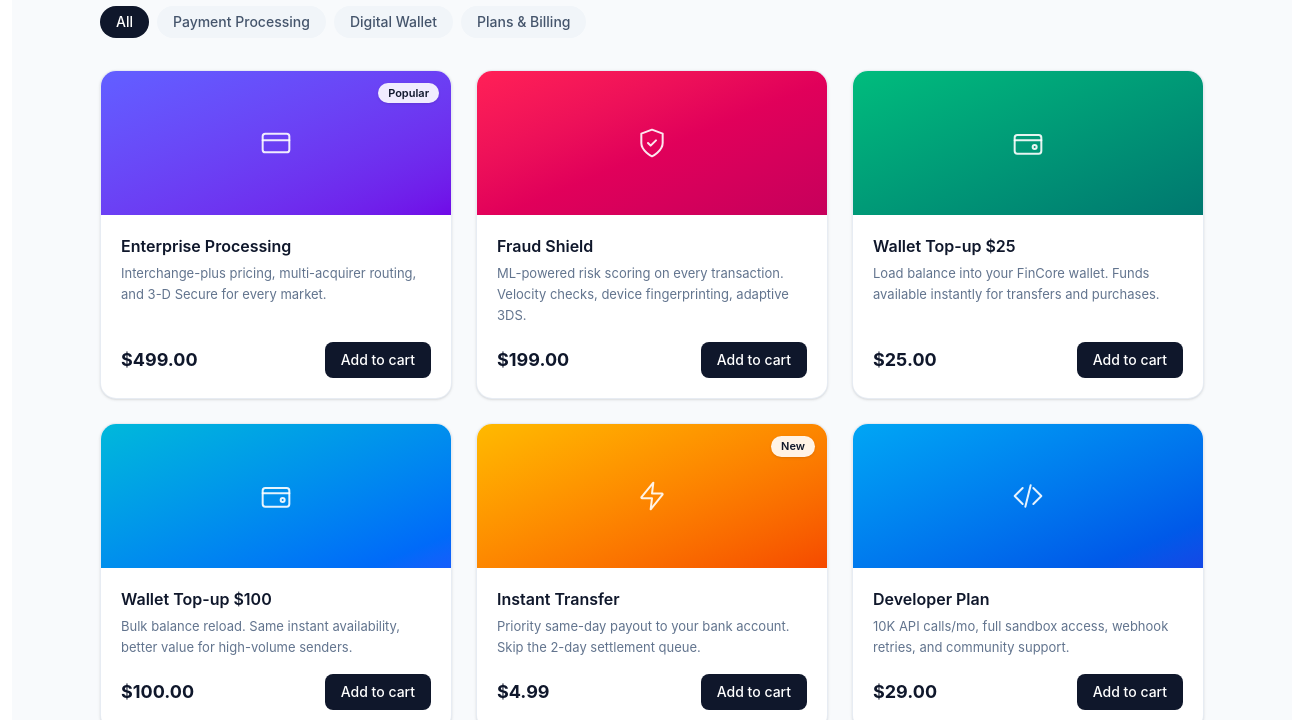
Test: CataloguePage › adds a product to the cart
This screenshot has width=1292, height=720.
(page scrolled)
Step 1. Click the button "Add to cart" next to "$499.00" → coordinates (378, 360), box [325, 342, 431, 378]
(page scrolled)
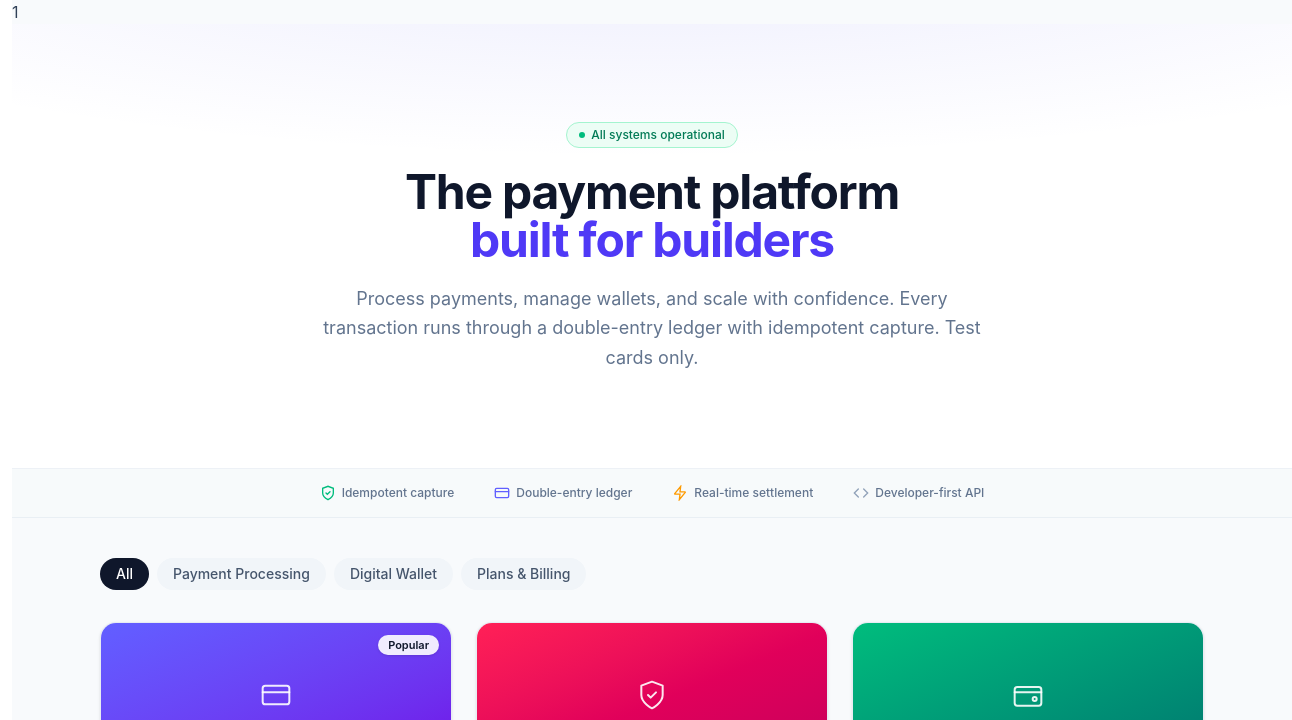
Result: the text with test id "cart-count" reads "1" at [12, 2, 18, 22]
